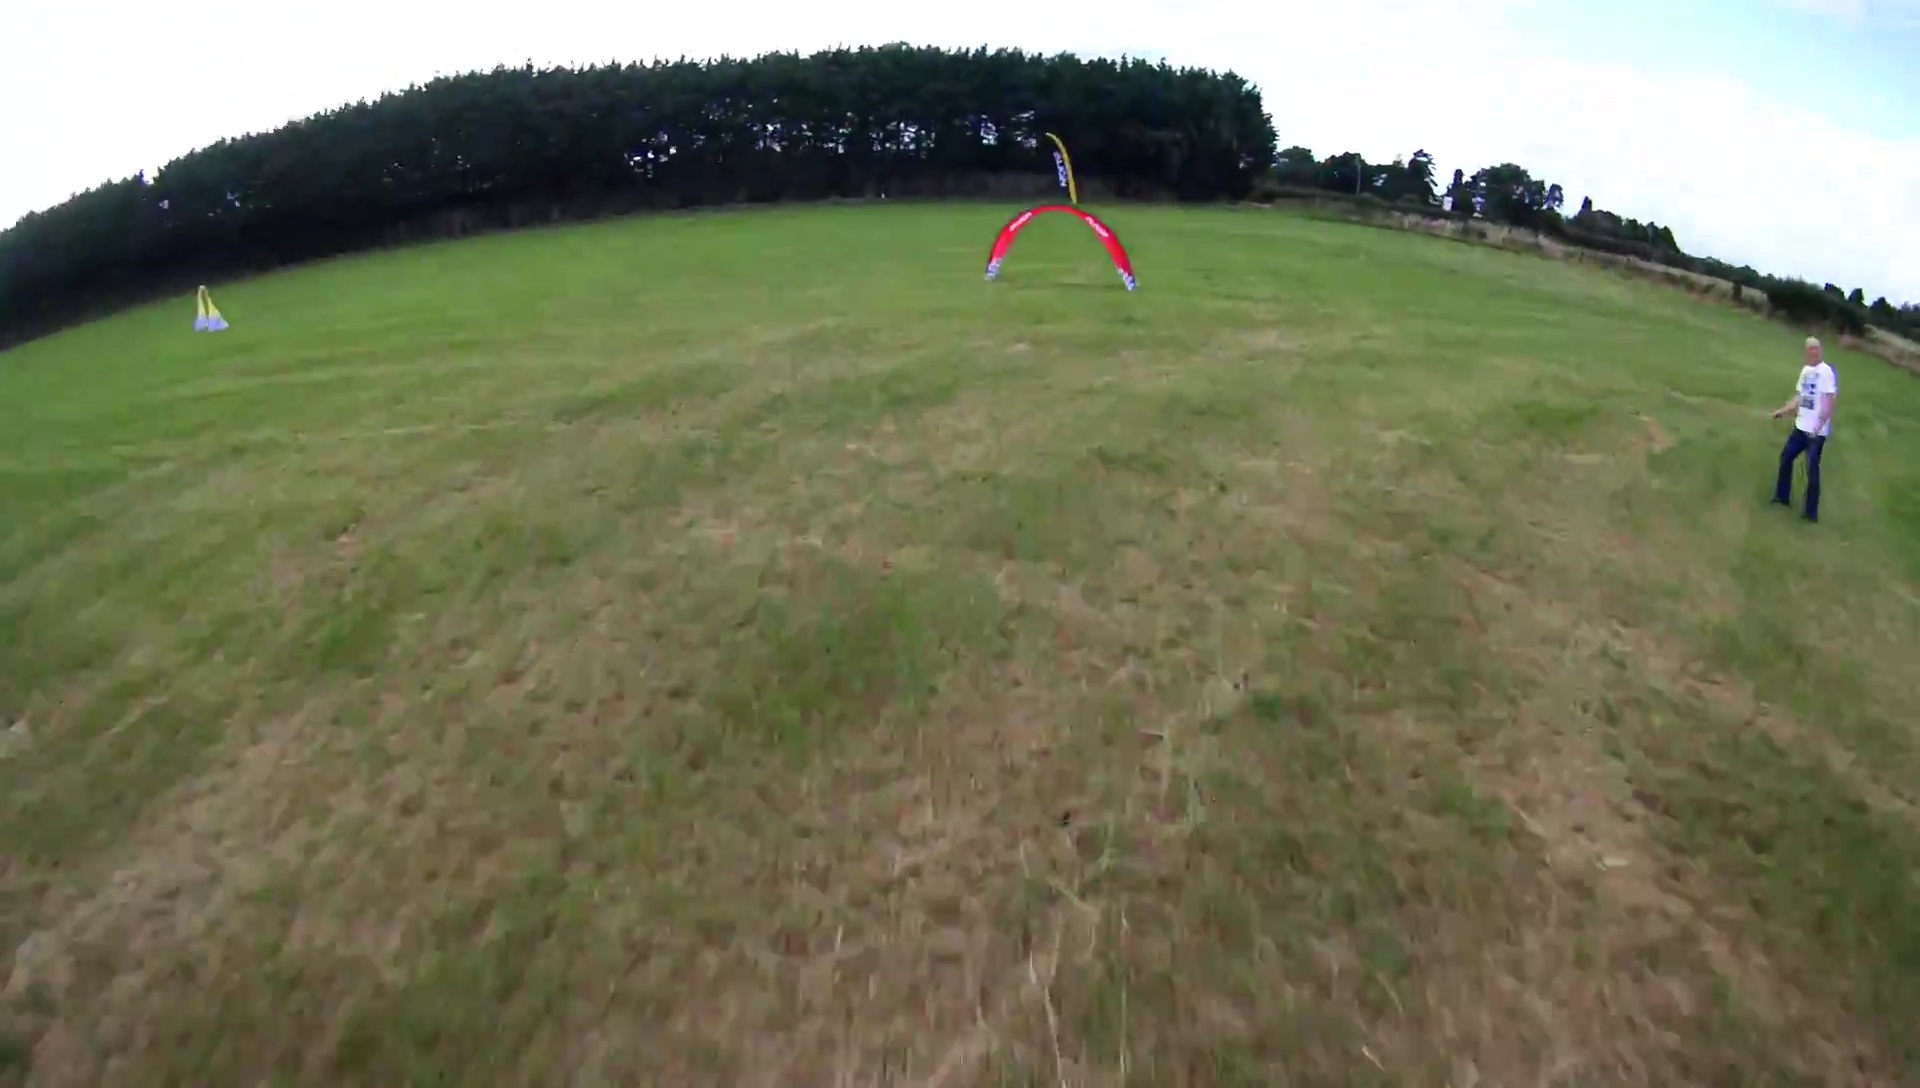gate: (982, 202, 1141, 293)
